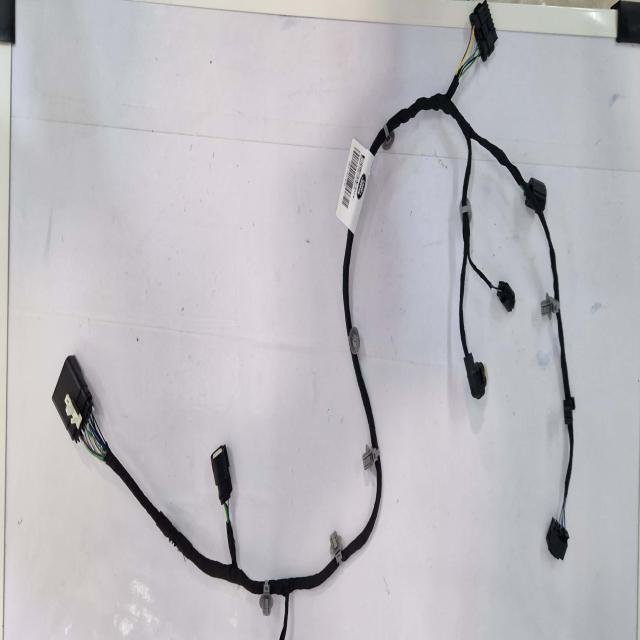Clip: (539, 289, 559, 316), (260, 582, 273, 617), (362, 445, 379, 469), (330, 532, 342, 565), (459, 190, 473, 215), (564, 395, 575, 426), (338, 317, 350, 344), (382, 124, 394, 151)
Connector: (53, 357, 90, 441), (210, 445, 232, 505), (466, 356, 490, 402), (546, 519, 569, 562), (524, 176, 548, 214), (471, 23, 495, 55), (490, 263, 510, 292)
Gape: (77, 400, 107, 462), (456, 26, 484, 77), (553, 478, 566, 515), (217, 490, 227, 520)
Info: (338, 139, 376, 236)
MHEV_N11_Cable: (81, 226, 381, 640), (365, 68, 527, 401), (557, 305, 573, 510), (535, 187, 555, 273), (560, 379, 572, 406)
